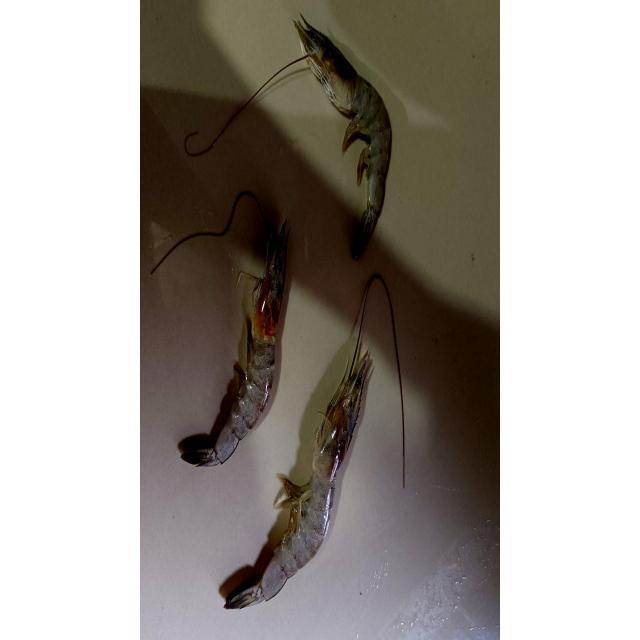shrimp: (224, 352, 369, 609), (182, 222, 288, 466), (297, 22, 390, 258)
